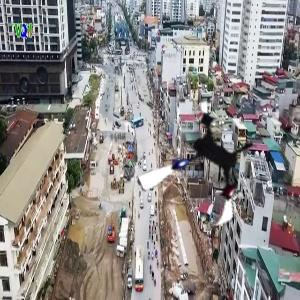drone: (133, 99, 268, 234)
